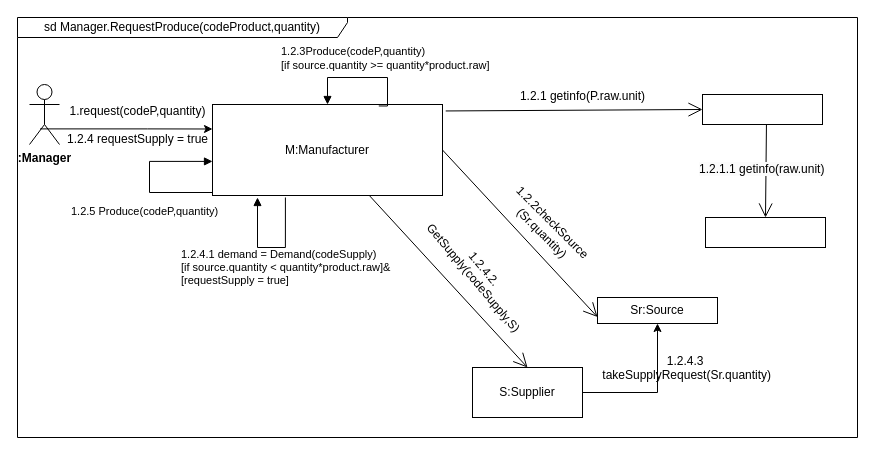
Some shapes in this 875 by 455 pixel diagram are drawn without their labels. Here are the shapes that lost their labels. From the top down, the centre of each, then its label:
the point at 762,109: P:Product
the point at 765,232: R:Raw
